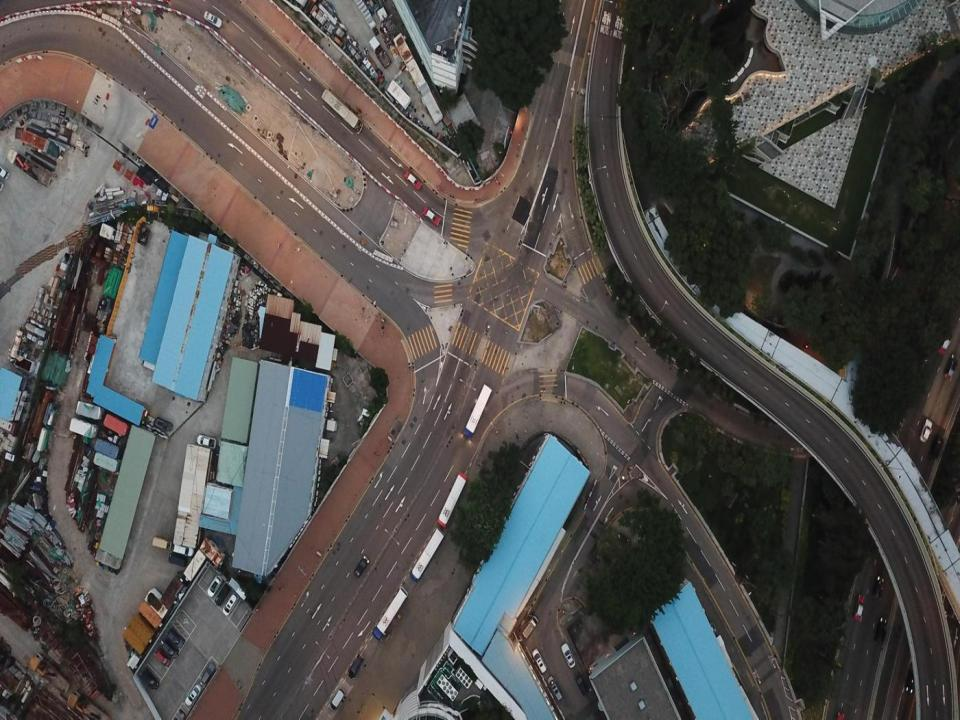bus: (372, 586, 408, 640), (321, 89, 363, 134), (409, 527, 444, 581), (436, 472, 468, 526), (464, 384, 492, 437)
car: (404, 169, 422, 190), (184, 684, 201, 706), (422, 206, 440, 225), (938, 334, 953, 356), (874, 618, 887, 643), (562, 643, 575, 668), (204, 10, 222, 28), (354, 556, 370, 576), (919, 418, 932, 442), (945, 355, 957, 381), (207, 576, 222, 596), (196, 435, 217, 448), (854, 595, 864, 622), (873, 577, 884, 601), (202, 664, 215, 684), (932, 436, 943, 459), (906, 669, 915, 692), (155, 651, 169, 665)
truck: (522, 616, 538, 639), (153, 537, 172, 549)
van: (546, 675, 562, 701), (347, 654, 364, 678), (222, 592, 238, 616), (215, 583, 231, 606), (330, 688, 346, 710), (574, 671, 588, 696), (142, 670, 159, 690), (532, 648, 546, 672), (167, 629, 184, 647), (161, 640, 178, 658), (173, 544, 194, 556), (0, 163, 10, 180)
